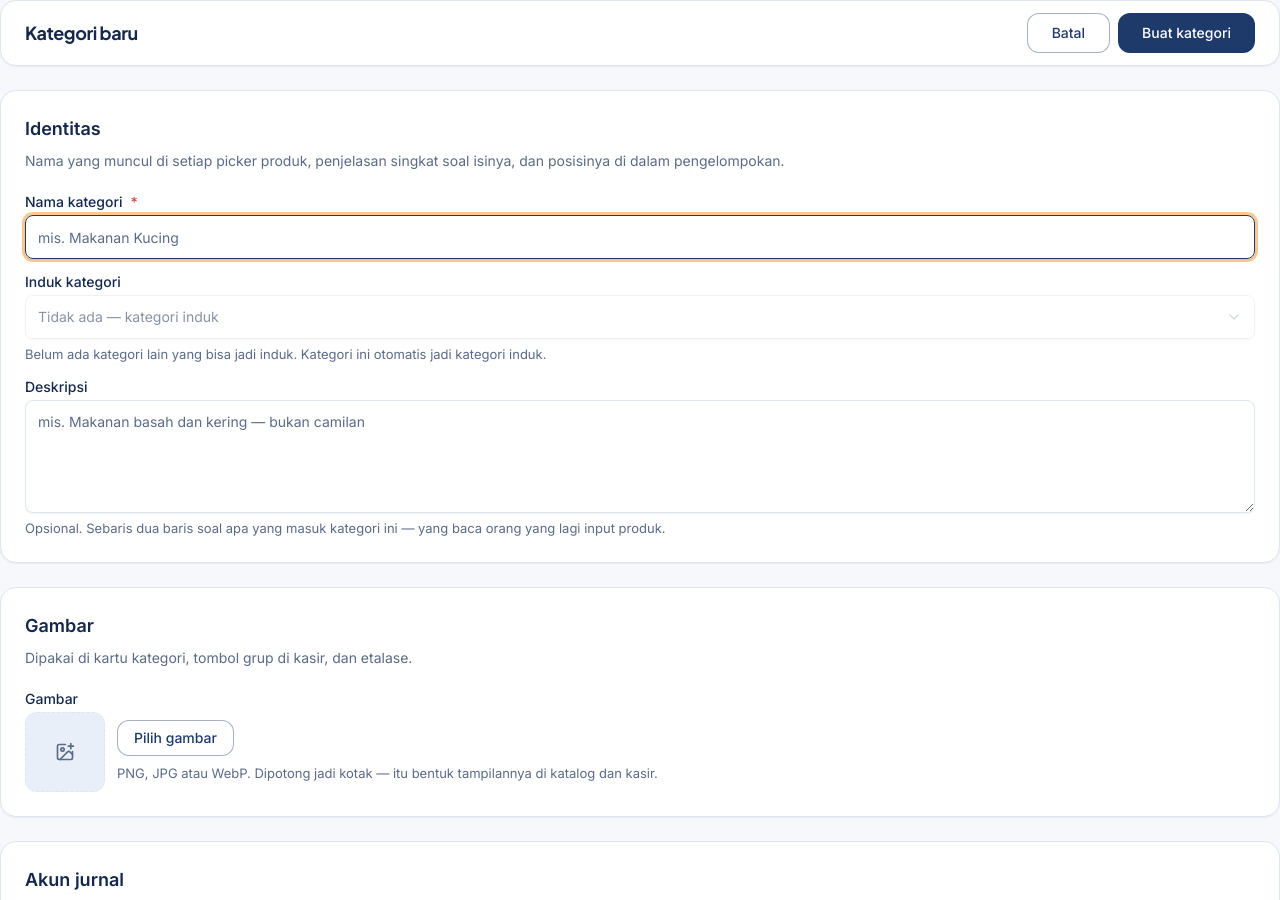
Test case: CategoryForm › creating › shows anything that is not a name clash as a banner
The image size is (1280, 900).
Type "Snack" into the field labelled "Nama kategori *" at (640, 237), box left=25, top=215, right=1255, bottom=259
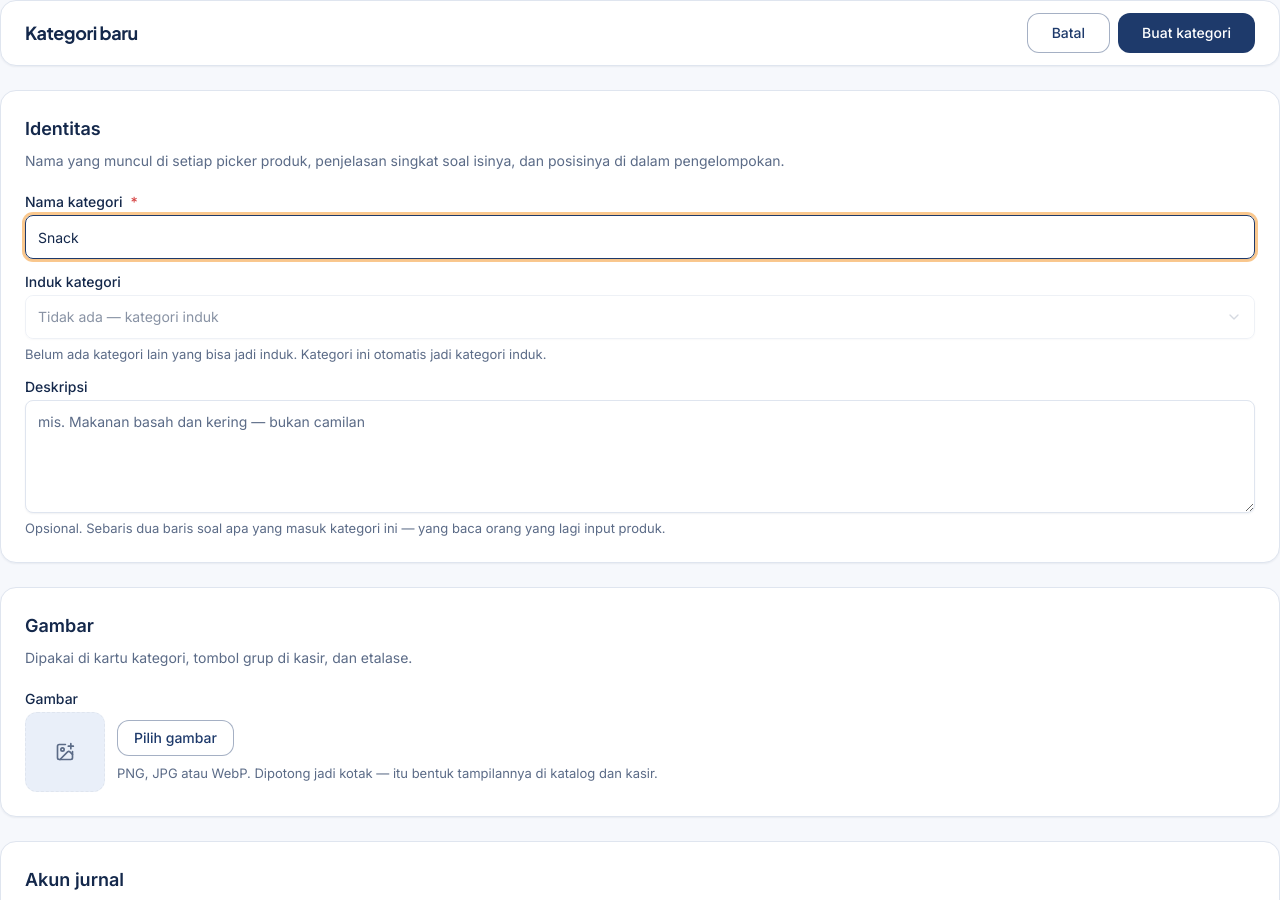
Click the button "Buat kategori" at (1187, 33), box left=1118, top=13, right=1255, bottom=53
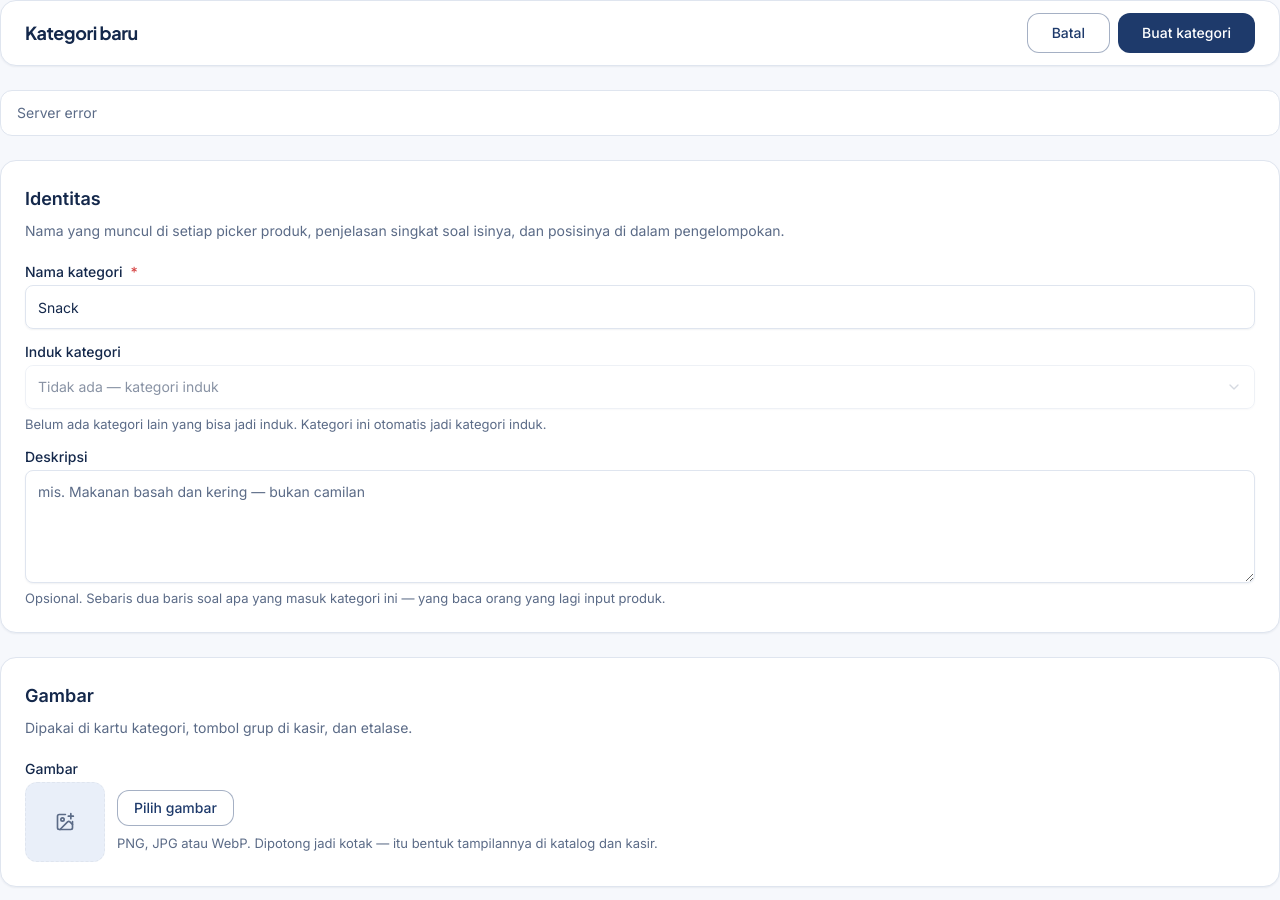
Check: the text "Server error" is shown, box left=17, top=104, right=97, bottom=121
